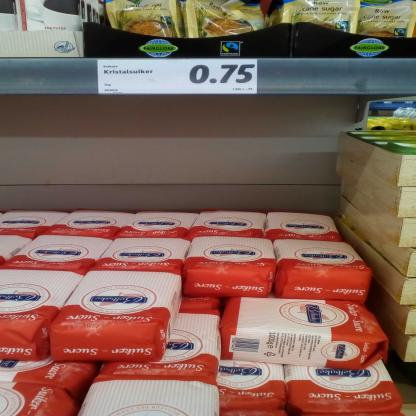prtg: (98, 60, 258, 95)
